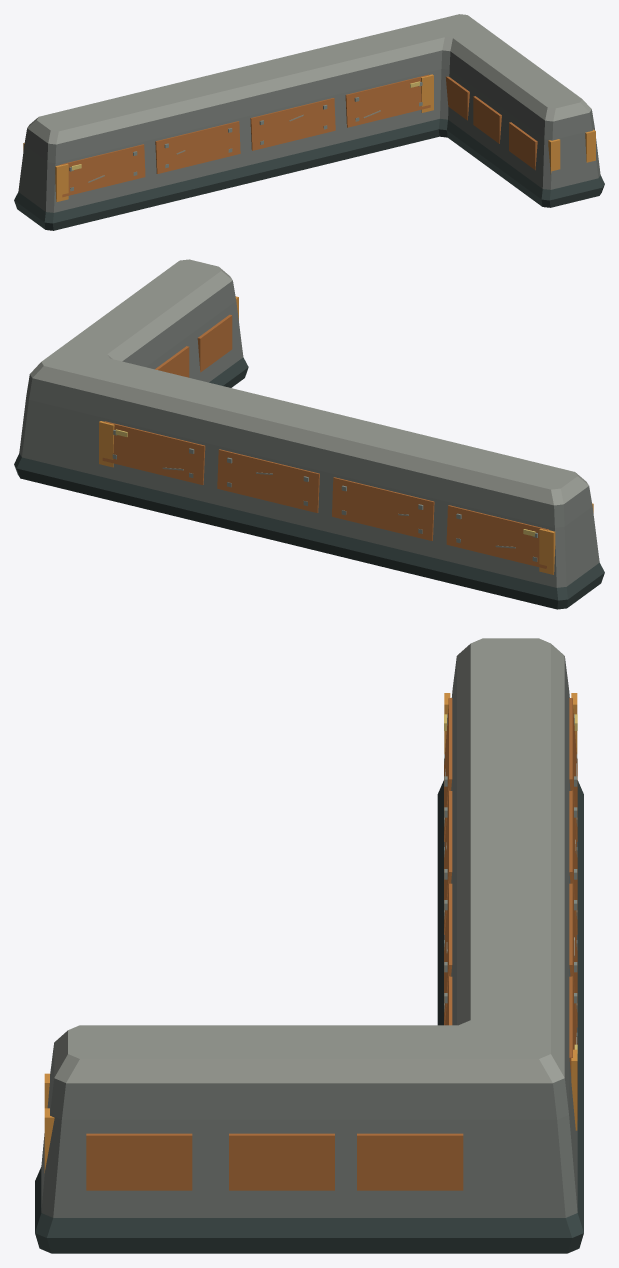
File: e1-half-cover.glb
3 renders of one model, top to bottom at view 1: azimuth 30°, elevation 25°; view 2: azimuth 150°, elevation 25°; view 3: azimuth 270°, elevation 25°, orthographic. The views are drawn at different scales.
Visible parts, largest first — view 1: L-shaped cast mineral ballast, Formed orange impact plate.001, Formed orange impact plate.002, Formed orange impact plate, Formed orange impact plate.003, Return panel.001, Return panel, Return panel.002, High visibility end catch, High visibility end catch.001, Return end strike guard, Return end strike guard.001; view 2: L-shaped cast mineral ballast, Formed orange impact plate.005, Formed orange impact plate.006, Formed orange impact plate.004, Formed orange impact plate.007, Return panel, High visibility end catch.002, High visibility end catch.003, Return panel.001; view 3: L-shaped cast mineral ballast, Return panel.003, Return panel.005, Return panel.004, Formed orange impact plate.001, Formed orange impact plate.002.
Part boxes in pixels (x1,y1,x2,y2): L-shaped cast mineral ballast: (14,14,604,230); Formed orange impact plate.001: (155,121,240,173); Formed orange impact plate.002: (250,98,335,150); Formed orange impact plate: (60,144,145,197); Formed orange impact plate.003: (345,74,430,127); Return panel.001: (473,96,501,143); Return panel: (509,122,537,170); Return panel.002: (445,76,469,120); High visibility end catch: (55,163,68,201); High visibility end catch.001: (421,74,433,112); Return end strike guard: (548,139,560,174); Return end strike guard.001: (585,129,595,162); L-shaped cast mineral ballast: (14,259,604,609); Formed orange impact plate.005: (332,477,434,540); Formed orange impact plate.006: (217,449,319,512); Formed orange impact plate.004: (446,505,548,568); Formed orange impact plate.007: (102,421,205,484); Return panel: (197,314,232,372); High visibility end catch.002: (539,528,555,574); High visibility end catch.003: (99,421,114,467); Return panel.001: (155,346,189,377); L-shaped cast mineral ballast: (35,638,583,1253); Return panel.003: (86,1133,192,1190); Return panel.005: (357,1133,463,1190); Return panel.004: (229,1133,334,1190); Formed orange impact plate.001: (444,790,452,934); Formed orange impact plate.002: (444,883,452,1025).
Bounding box in the file's own units: 5.8 × 1.1 × 3.
